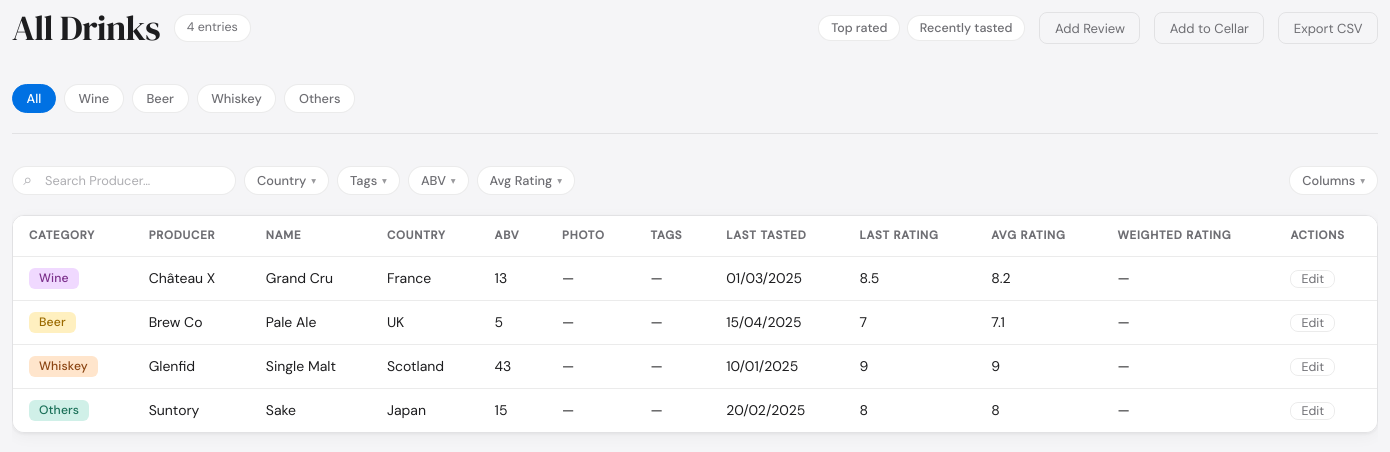
it: filtering to Wine shows only wine entries
Expected: the text "Grand Cru" is shown, [250,256,371,300]
Click the button "Wine" at (94, 99), box [64,84,124,113]
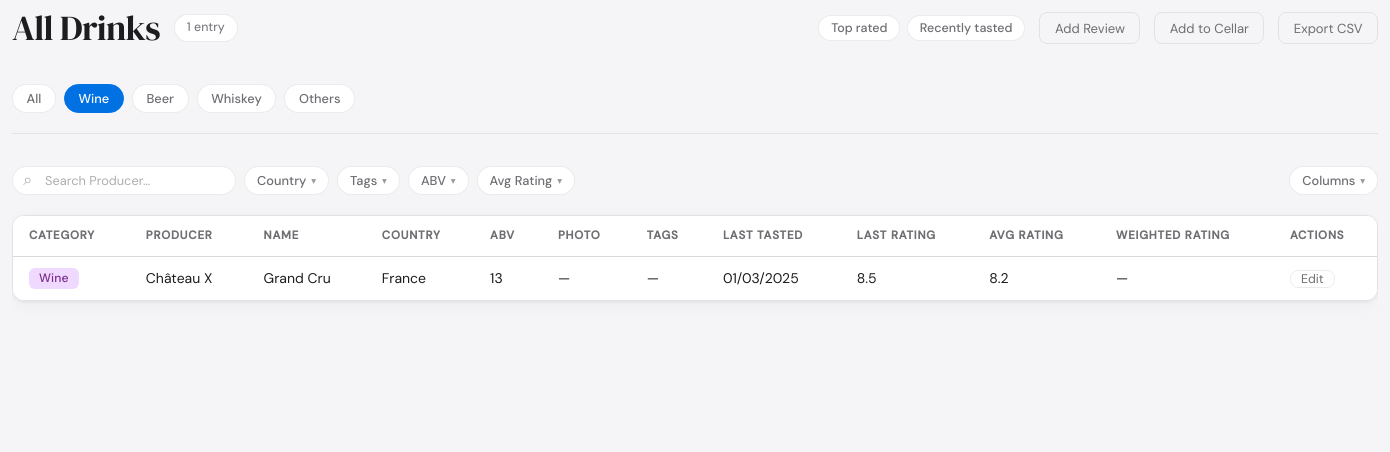
Expected: the text "Grand Cru" is shown, [248,256,366,300]
Expected: the text "Pale Ale" is gone
